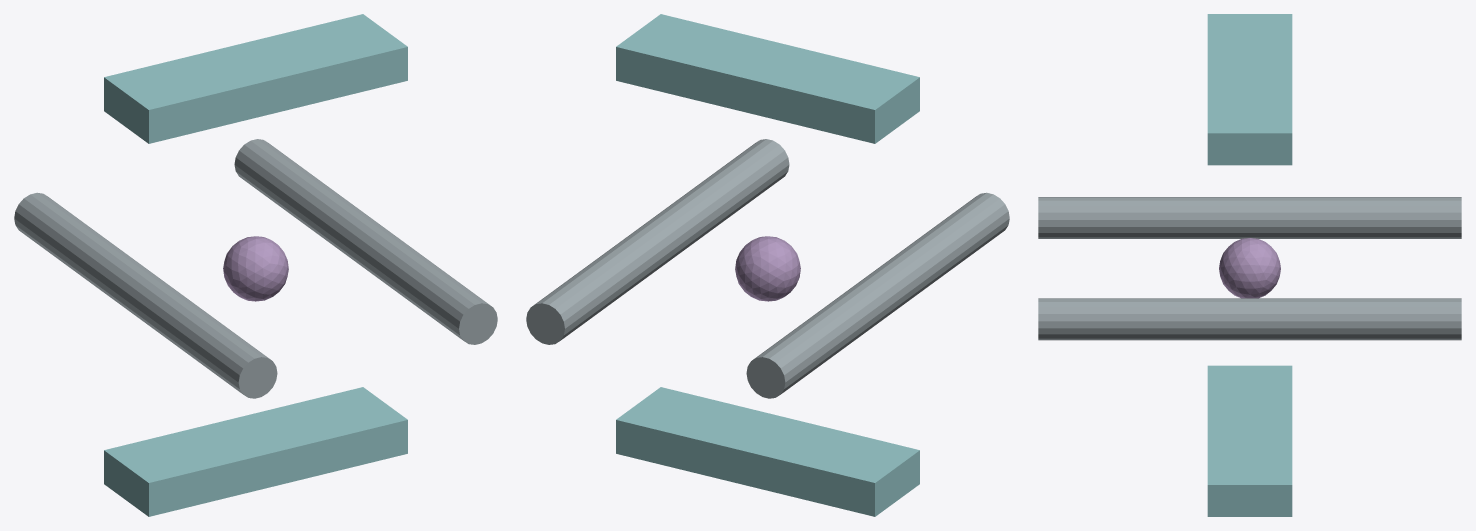
File: time_portal.glb
The picture shows the model from 3 angles, left to right: view 1: azimuth 30°, elevation 25°; view 2: azimuth 150°, elevation 25°; view 3: azimuth 270°, elevation 25°; orthographic projection. The views are drawn at different scales.
Parts seen in each view (by area): view 1: part_02, part_03, part_01, part_00, part_04; view 2: part_02, part_03, part_01, part_00, part_04; view 3: part_01, part_00, part_02, part_03, part_04.
Part boxes in pixels (<box>): part_02: <box>104,14,407,143</box>; part_03: <box>104,387,407,516</box>; part_01: <box>234,139,497,344</box>; part_00: <box>14,192,277,398</box>; part_04: <box>223,236,288,301</box>; part_02: <box>616,14,919,143</box>; part_03: <box>616,387,919,516</box>; part_01: <box>526,139,789,344</box>; part_00: <box>746,192,1009,398</box>; part_04: <box>735,236,800,301</box>; part_01: <box>1038,298,1461,340</box>; part_00: <box>1038,197,1461,238</box>; part_02: <box>1207,14,1292,165</box>; part_03: <box>1207,365,1292,516</box>; part_04: <box>1219,238,1280,298</box>.
Bounding box in the file's own units: 2 × 3 × 3.
